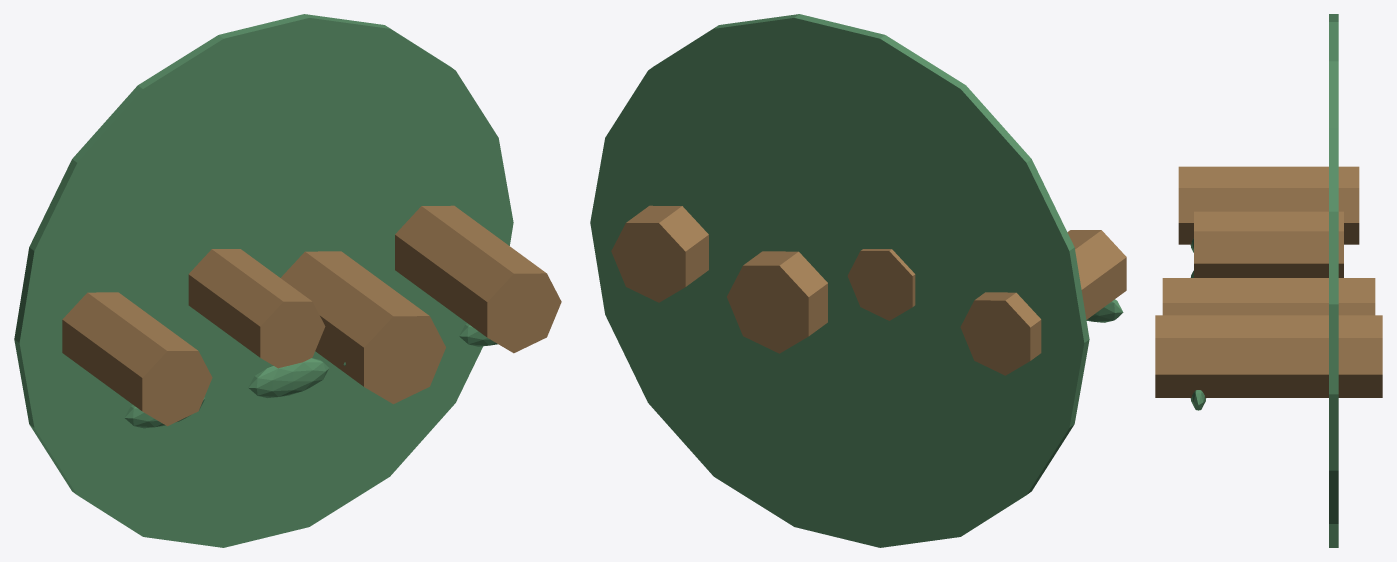
Rendered from 02_local_prop_cluster.glb.
3 views of the same model, side by side, from view 1: azimuth 30°, elevation 25°; view 2: azimuth 150°, elevation 25°; view 3: azimuth 270°, elevation 25° (orthographic). The views are drawn at different scales.
Visible parts, largest first — view 1: scatter_base, root_stump_3, root_stump_2, root_stump_0, root_stump_1, moss_1; view 2: scatter_base, root_stump_0, root_stump_2, root_stump_3, root_stump_1; view 3: root_stump_3, root_stump_1, root_stump_0, root_stump_2, scatter_base.
Part boxes in pixels (left/top/right/bottom): scatter_base: left=14, top=14, right=513, bottom=547; root_stump_3: left=395, top=205, right=561, bottom=353; root_stump_2: left=281, top=251, right=445, bottom=404; root_stump_0: left=62, top=292, right=212, bottom=426; root_stump_1: left=188, top=249, right=325, bottom=368; moss_1: left=248, top=358, right=328, bottom=397; scatter_base: left=590, top=14, right=1089, bottom=547; root_stump_0: left=960, top=230, right=1126, bottom=375; root_stump_2: left=727, top=251, right=827, bottom=353; root_stump_3: left=611, top=205, right=708, bottom=302; root_stump_1: left=847, top=249, right=915, bottom=320; root_stump_3: left=1155, top=315, right=1382, bottom=397; root_stump_1: left=1194, top=211, right=1343, bottom=277; root_stump_0: left=1178, top=166, right=1359, bottom=244; root_stump_2: left=1162, top=278, right=1375, bottom=315; scatter_base: left=1329, top=14, right=1338, bottom=547.
Bounding box in the file's own units: 1.9 × 1.87 × 0.8062.
